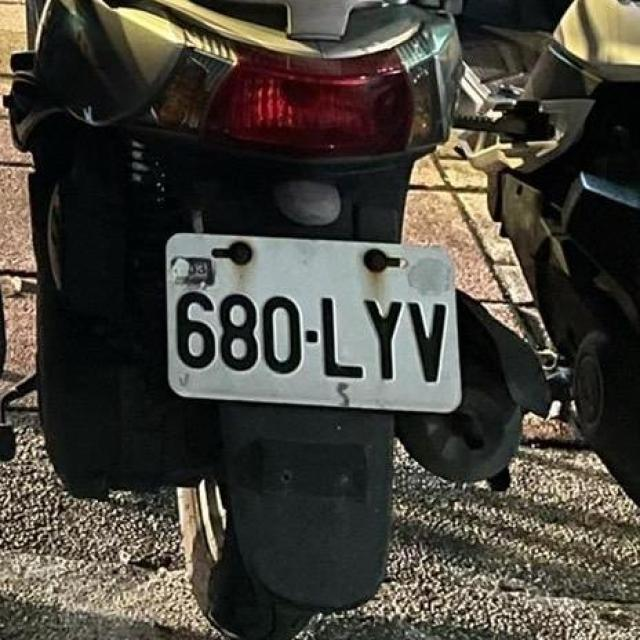W: (150, 228, 472, 418)
